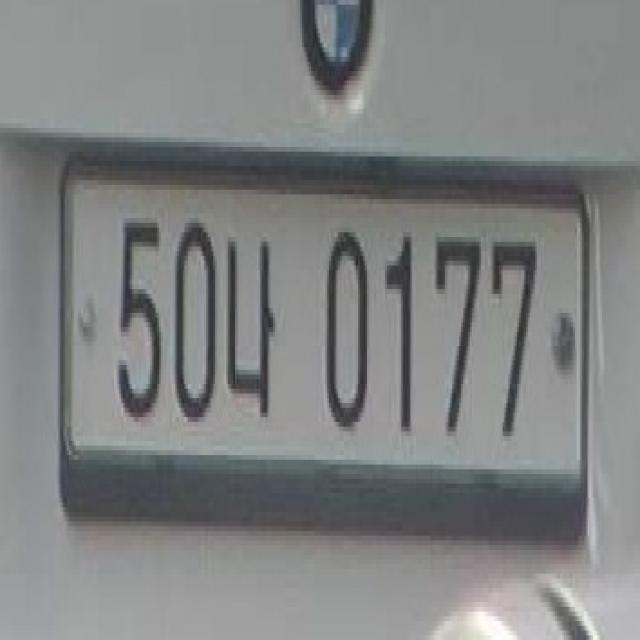0: (321, 215, 372, 438), (170, 215, 218, 425)
1: (378, 215, 418, 448)
5: (104, 206, 164, 426)
7: (487, 220, 544, 458), (432, 222, 483, 453)
license_plate: (46, 147, 592, 544)
na: (223, 231, 281, 432)
